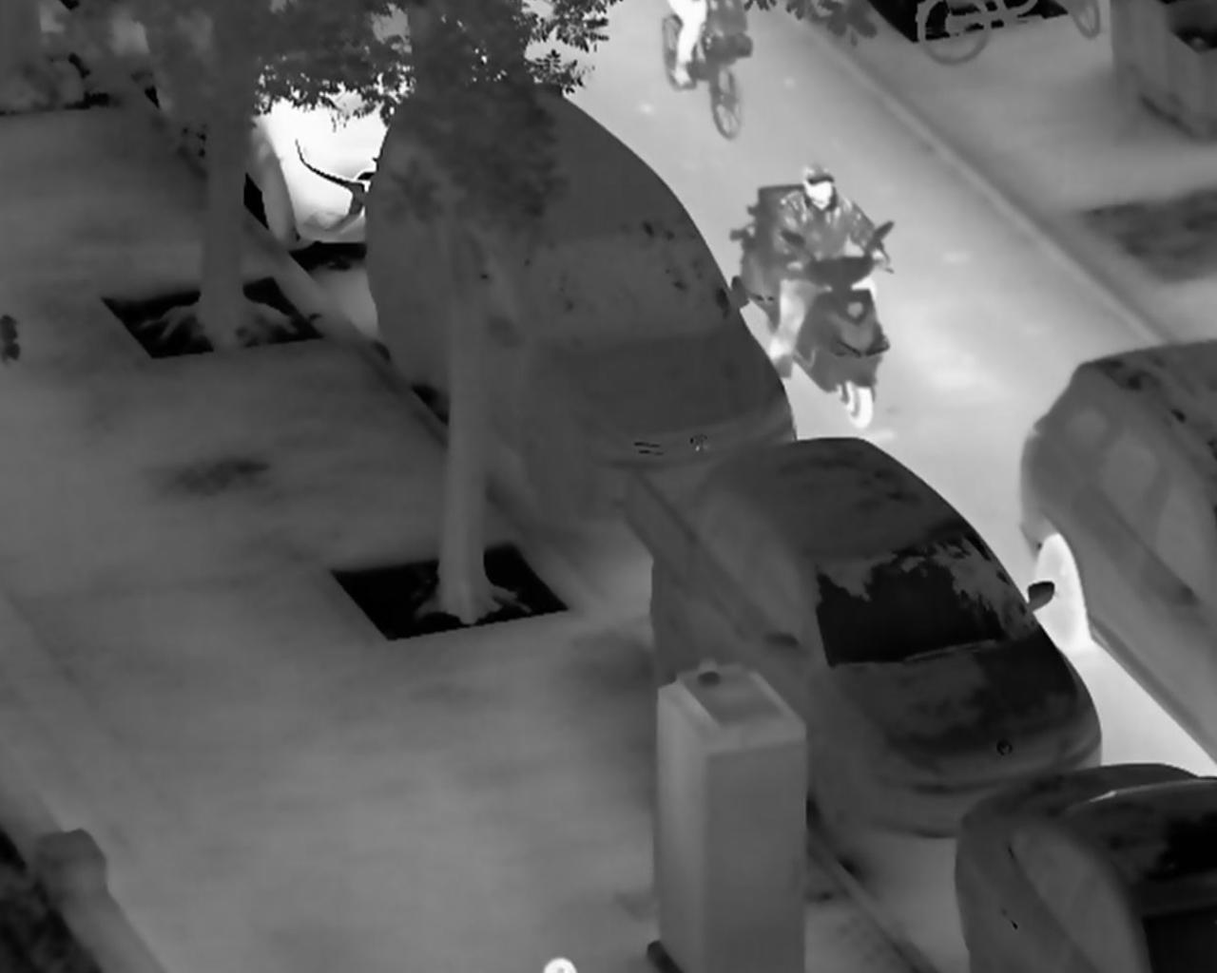person: (769, 161, 891, 384)
